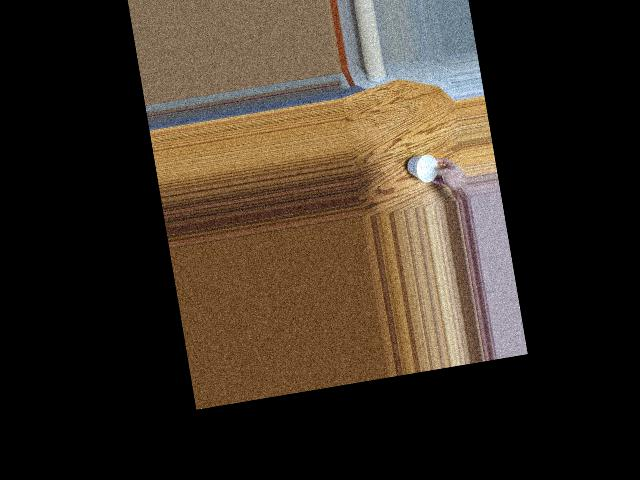cotage: (407, 153, 442, 183)
